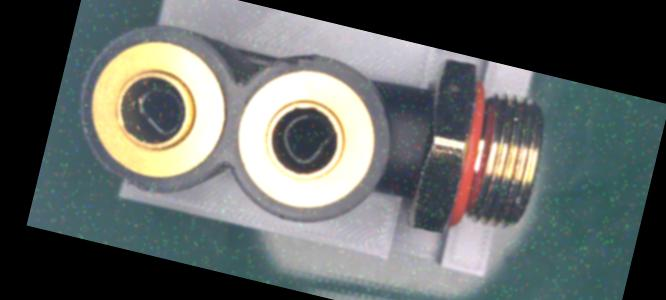bump: (276, 46, 322, 72), (110, 169, 151, 191)
off-centered: (127, 77, 194, 138), (273, 109, 338, 171)
white mark: (396, 147, 420, 169)
